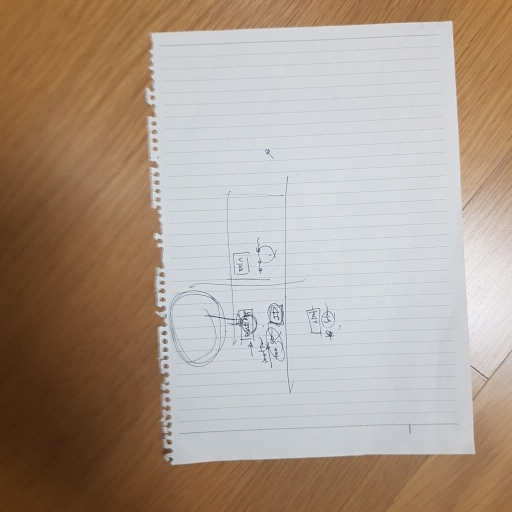Paper_2: (141, 15, 486, 476)
